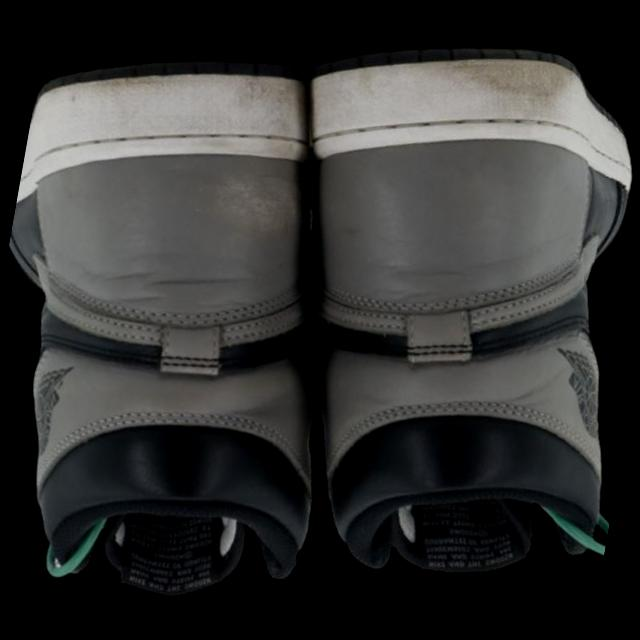nike_original_jordan: (210, 0, 640, 629), (0, 4, 421, 640)
